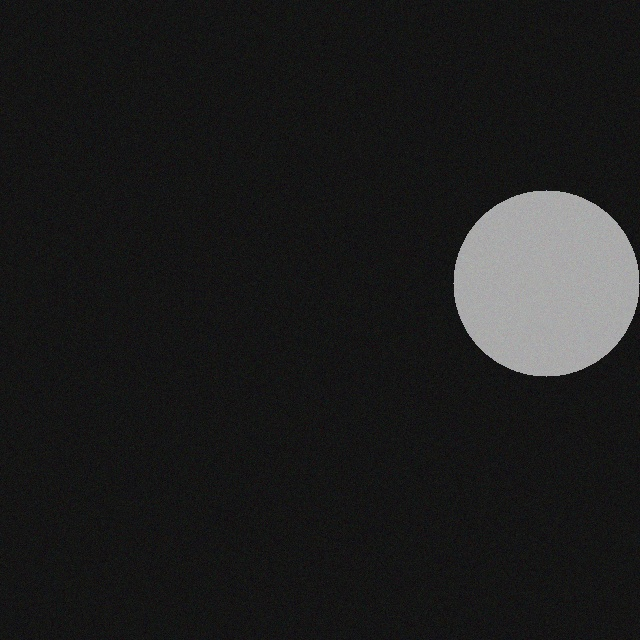circle: (451, 193, 637, 379)
